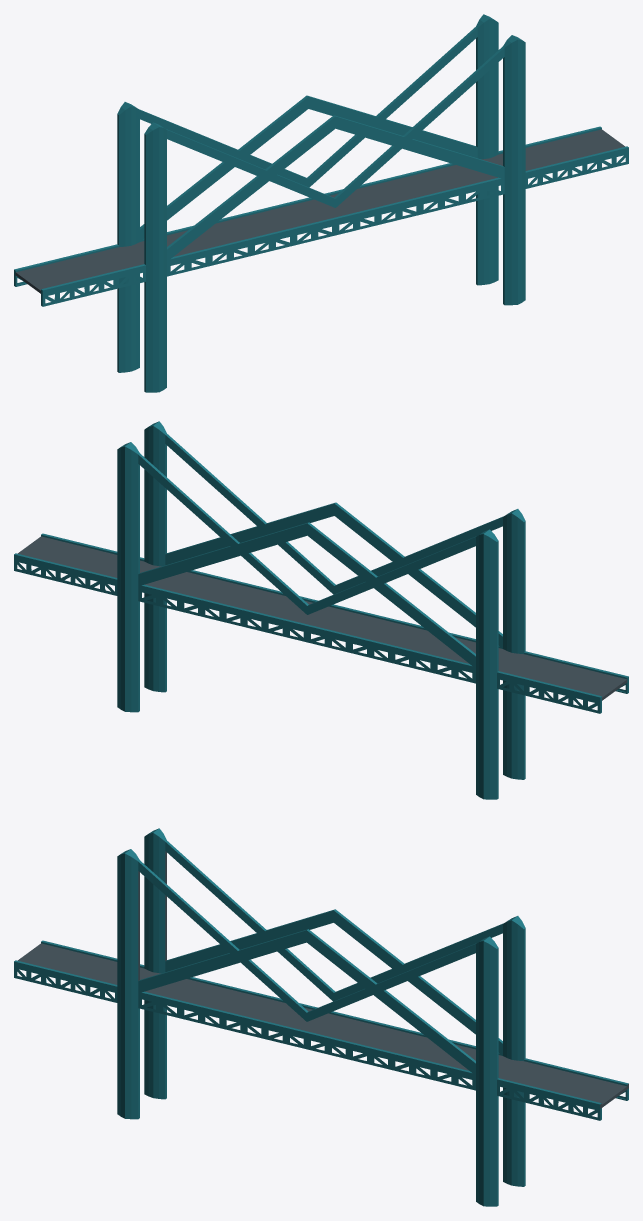
Rendered from Bridge.fbx.
3 views of the same model, one above another, from view 1: azimuth 30°, elevation 25°; view 2: azimuth 150°, elevation 25°; view 3: azimuth 330°, elevation 25° (orthographic).
Parts seen in each view (by area): view 1: Cube; view 2: Cube; view 3: Cube.
Boxes of the visible parts, x1,y1,x2,y2 form: Cube: (14,14,628,392); Cube: (14,421,628,799); Cube: (14,828,628,1206).
Bounding box in the file's own units: 40000 × 17303 × 4084.
